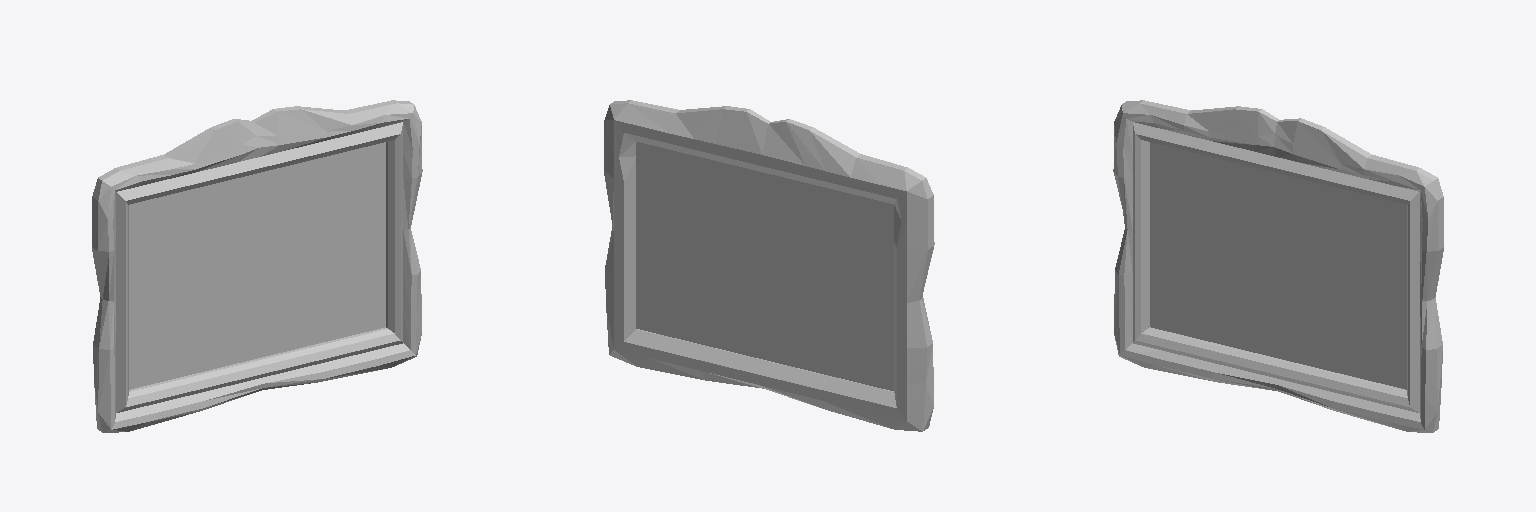
Rendered from Cuadro-2.obj.
3 renders of one model, left to right at view 1: azimuth 30°, elevation 25°; view 2: azimuth 150°, elevation 25°; view 3: azimuth 330°, elevation 25°, orthographic.
Parts seen in each view (by area): view 1: pCube2, pCube1; view 2: pCube2, pCube1; view 3: pCube2, pCube1.
Boxes of the visible parts, <box> form: pCube2: <box>129,142,385,389</box>; pCube1: <box>92,100,422,432</box>; pCube2: <box>636,142,893,390</box>; pCube1: <box>604,100,934,431</box>; pCube2: <box>1150,142,1406,389</box>; pCube1: <box>1113,100,1443,432</box>.
Bounding box in the file's own units: 3.92 × 3.25 × 0.3202.